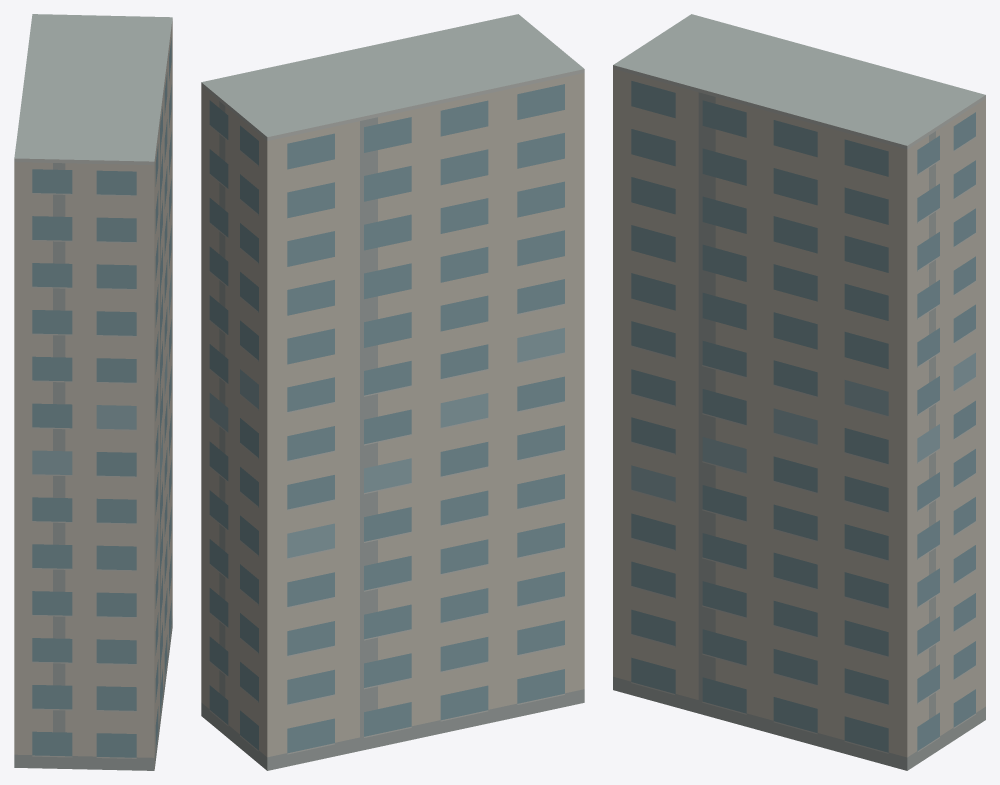
Rendered from residential-950b264f-4818-438b-8ef2-c3203e82bfe7.glb.
The picture shows the model from 3 angles, left to right: view 1: azimuth 30°, elevation 25°; view 2: azimuth 150°, elevation 25°; view 3: azimuth 270°, elevation 25°; orthographic projection. The views are drawn at different scales.
Parts seen in each view (by area): view 1: residential-950b264f-4818-438b-8ef2-c3203e82bfe7.tmp; view 2: residential-950b264f-4818-438b-8ef2-c3203e82bfe7.tmp; view 3: residential-950b264f-4818-438b-8ef2-c3203e82bfe7.tmp.
Boxes of the visible parts, x1,y1,x2,y2 form: residential-950b264f-4818-438b-8ef2-c3203e82bfe7.tmp: (14, 14, 172, 770); residential-950b264f-4818-438b-8ef2-c3203e82bfe7.tmp: (201, 14, 584, 770); residential-950b264f-4818-438b-8ef2-c3203e82bfe7.tmp: (613, 14, 985, 770).
Size of the model in its own units: 18.56 by 41 by 22.17.
